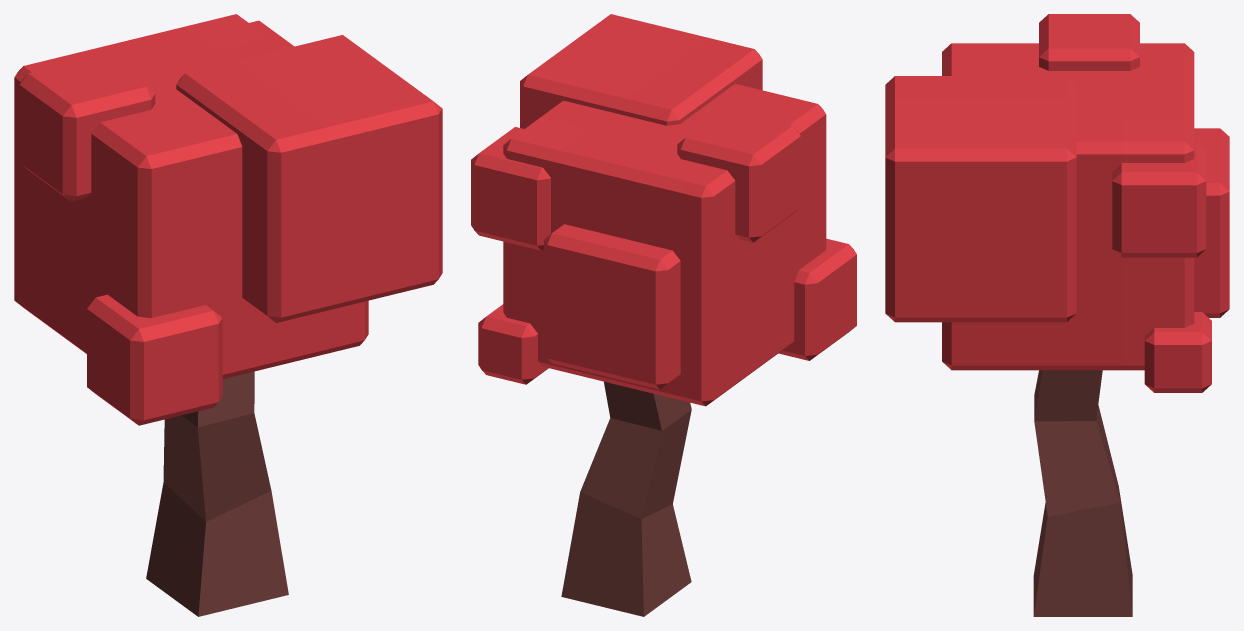
The model's file is TreePackage.fbx_Tree_010.fbx.
3 renders of one model, left to right at view 1: azimuth 30°, elevation 25°; view 2: azimuth 150°, elevation 25°; view 3: azimuth 270°, elevation 25°, orthographic. The views are drawn at different scales.
Visible parts, largest first — view 1: Cube.001, Plane.003; view 2: Cube.001, Plane.003; view 3: Cube.001, Plane.003.
Part boxes in pixels (bbox=[...]): Cube.001: bbox=[14, 14, 442, 425]; Plane.003: bbox=[146, 371, 288, 616]; Cube.001: bbox=[471, 14, 856, 406]; Plane.003: bbox=[561, 381, 691, 616]; Cube.001: bbox=[885, 14, 1229, 392]; Plane.003: bbox=[1033, 370, 1132, 616].
Bounding box in the file's own units: 330 × 565 × 348.
